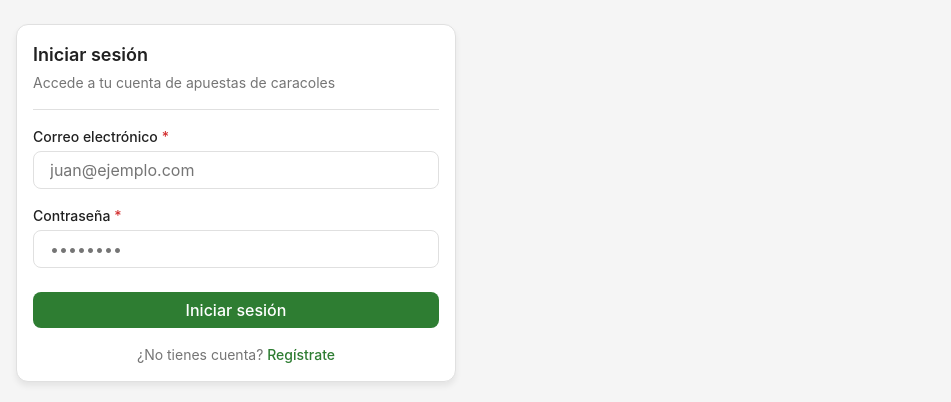
LoginForm › shows error toast on login failure
The image size is (951, 402).
Type "test@example.com" into the field labelled "Correo electrónico*". click: (236, 170)
box: [33,151,439,189]
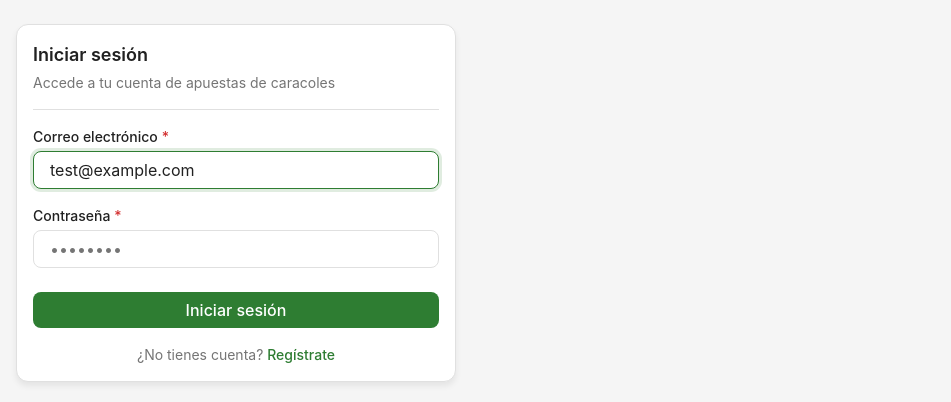
Type "wrongpassword" into the password field labelled "Contraseña*". click: (236, 249)
box: [33,230,439,268]
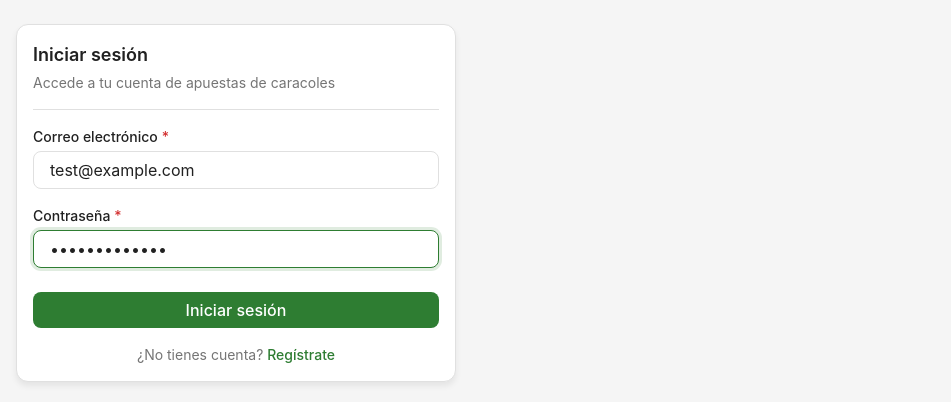
Click the button "Iniciar sesión". click: (236, 310)
box: [33,292,439,328]
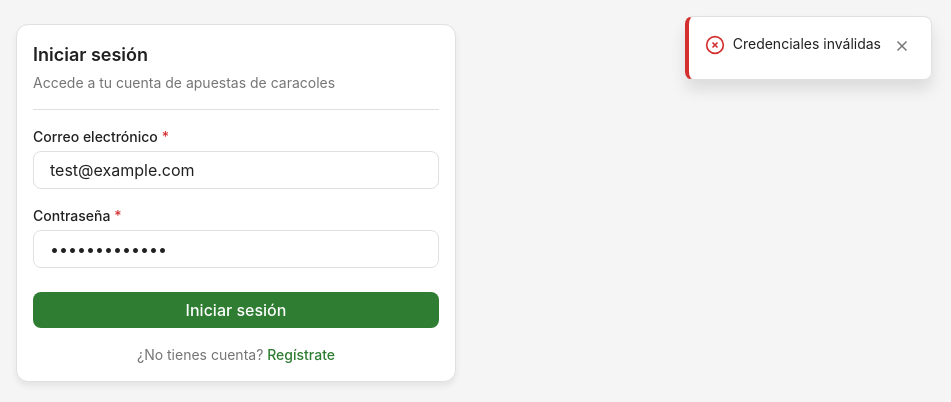
Check: the text "Credenciales inválidas" is shown, box [733,33,881,54]
